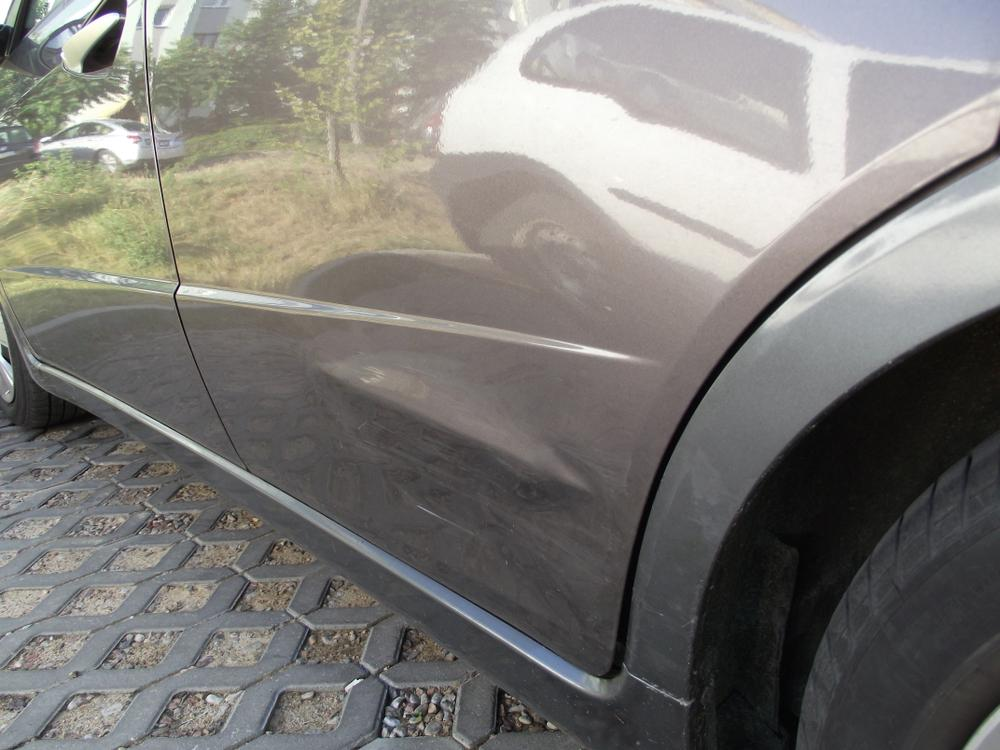dent: (285, 245, 619, 625)
